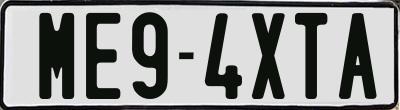4: (205, 13, 244, 100)
9: (130, 11, 169, 100)
A: (337, 10, 376, 96)
E: (86, 13, 121, 100)
M: (38, 12, 74, 102)
T: (294, 10, 329, 100)
X: (250, 13, 283, 101)
